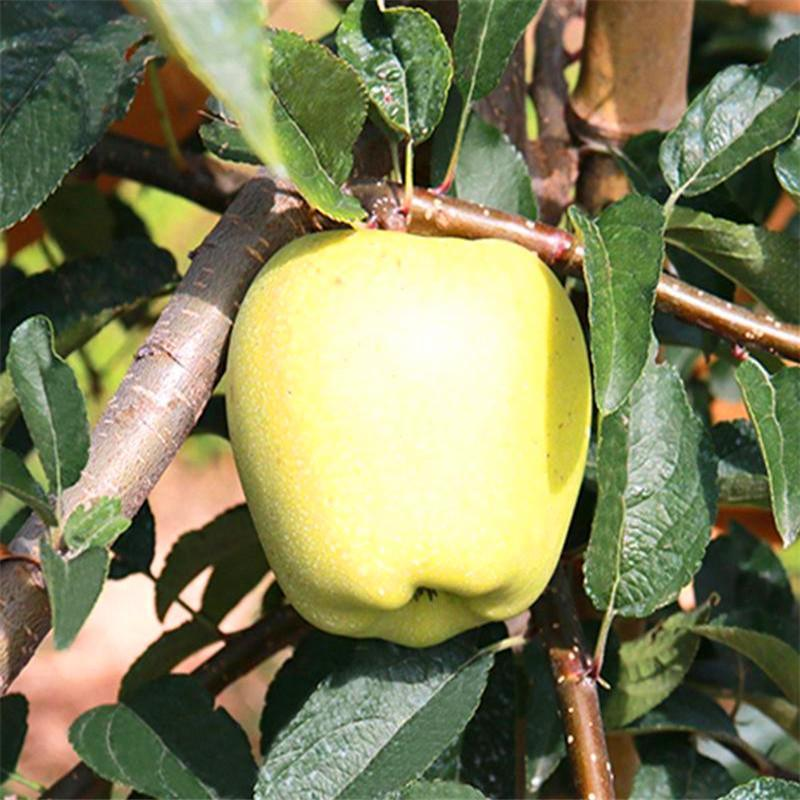apple: (219, 220, 596, 645)
